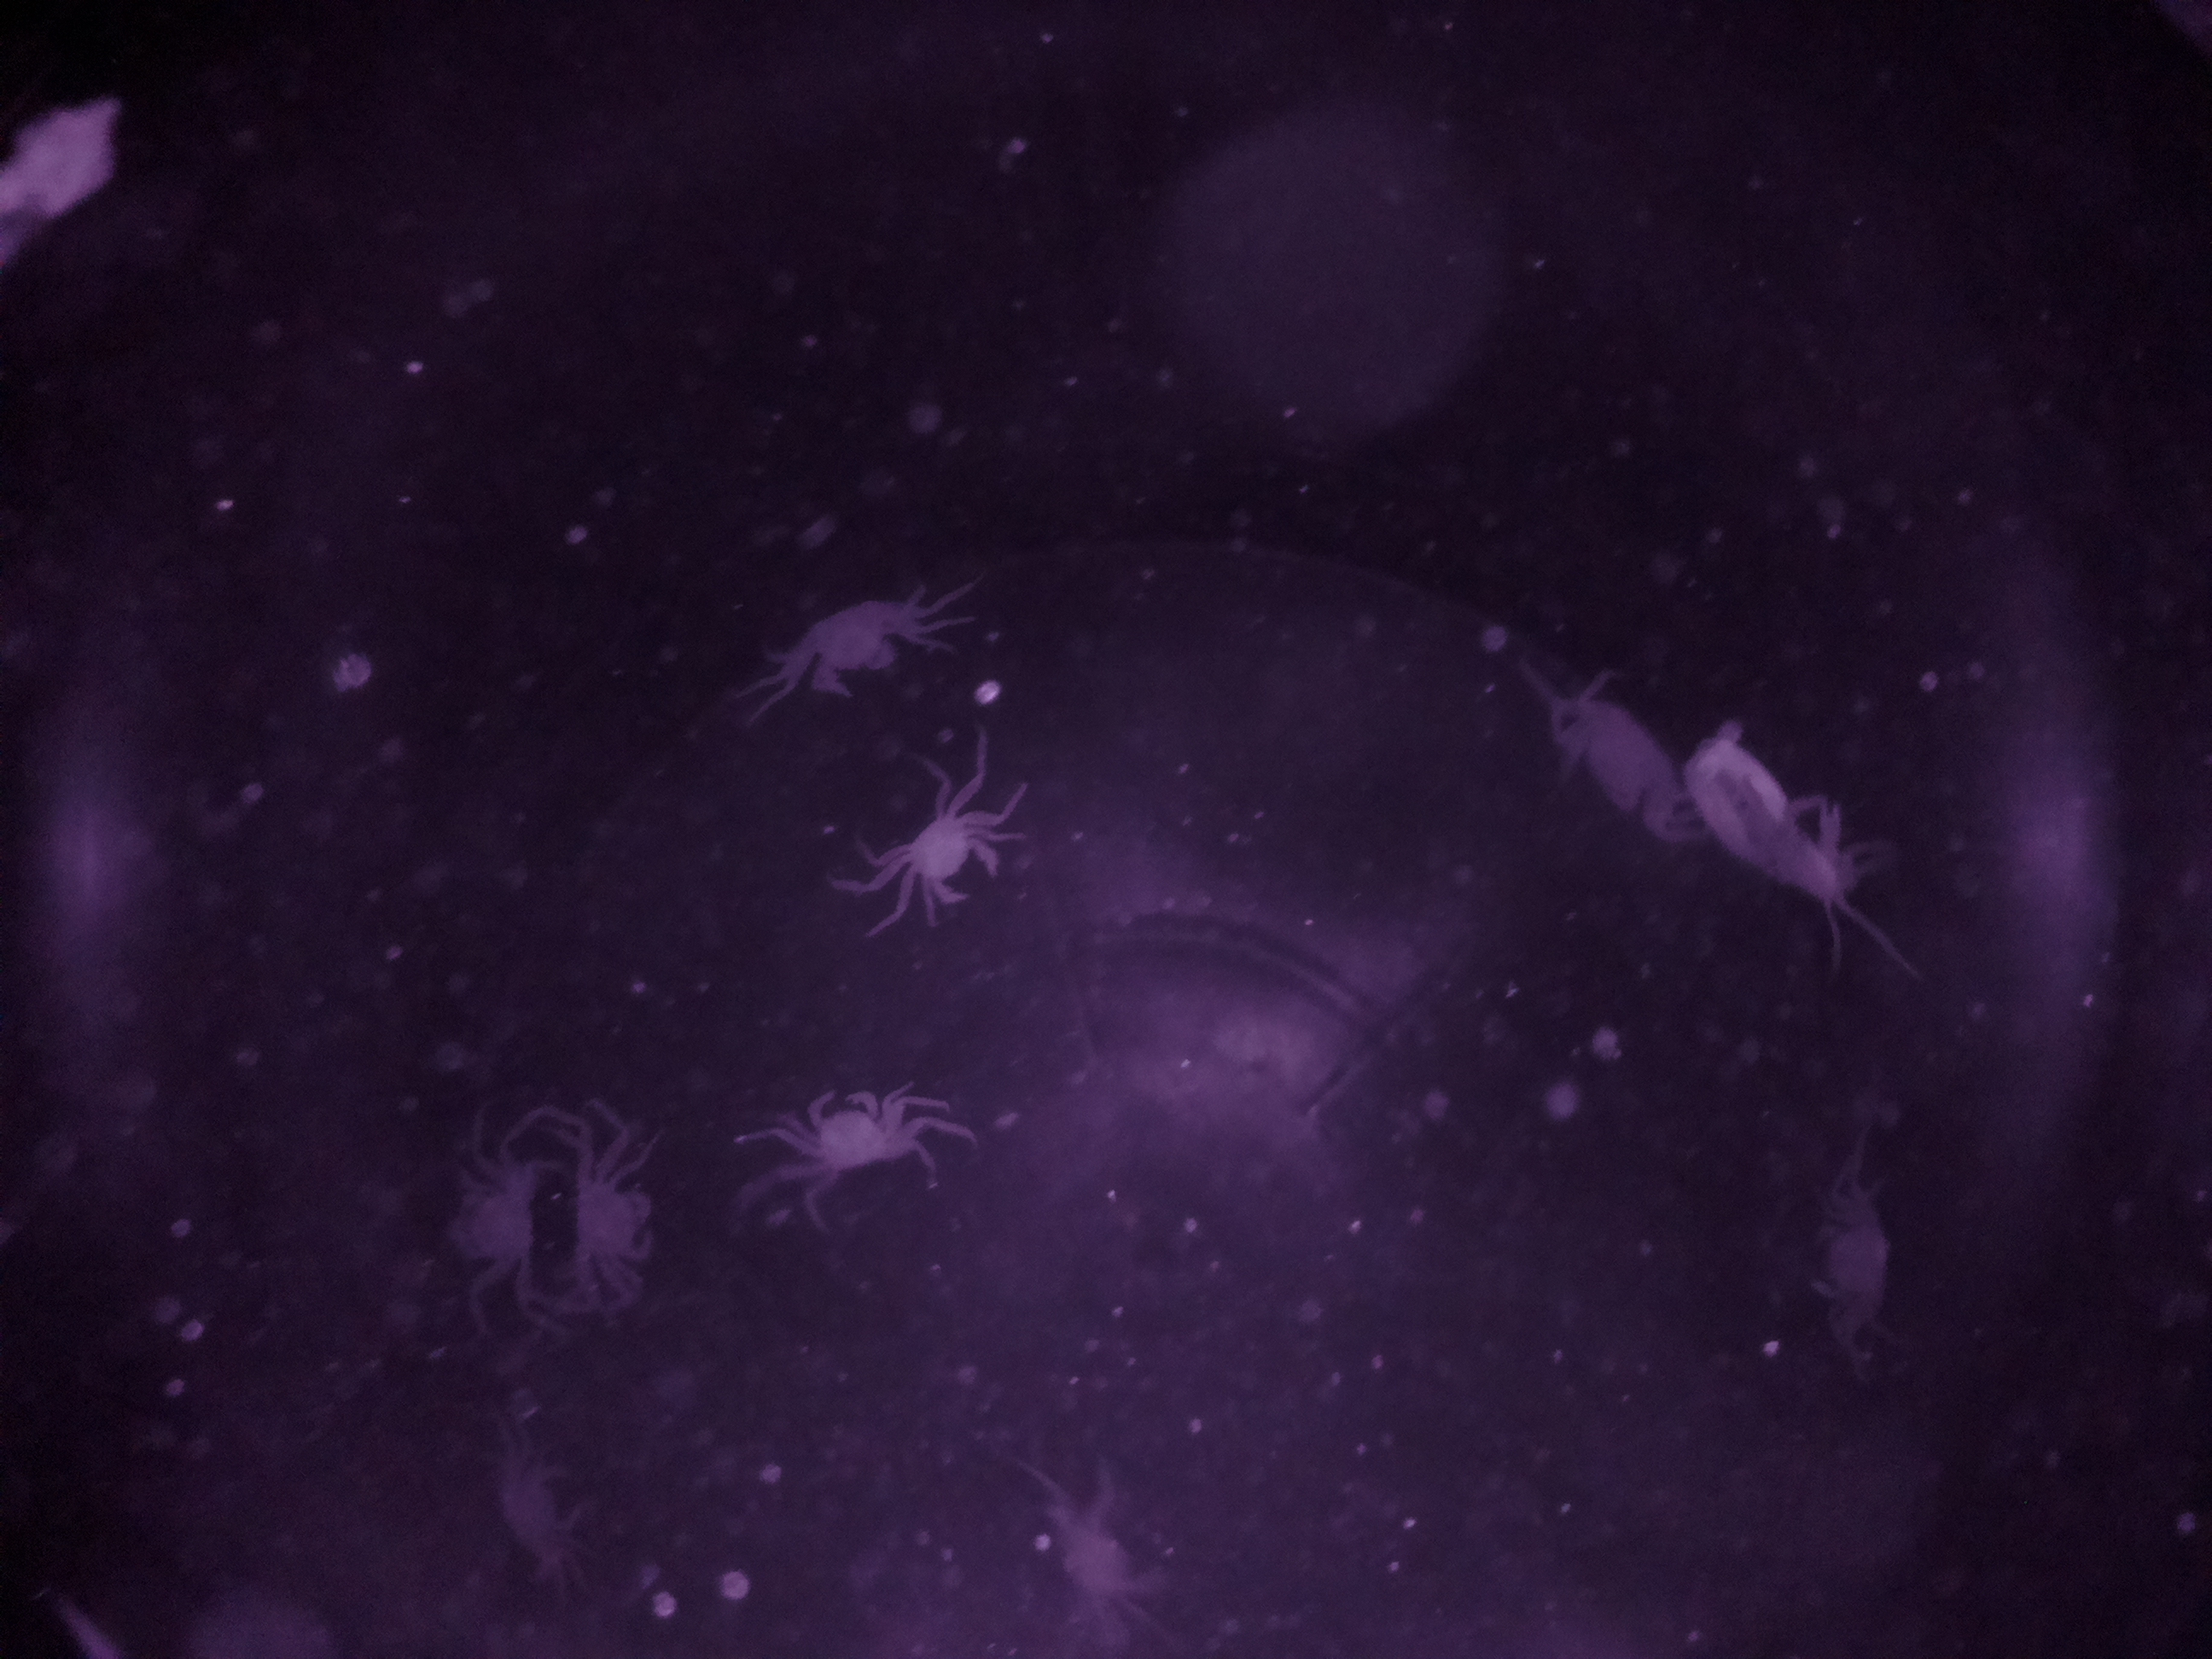Crab: (428, 1134, 549, 1297), (787, 1068, 923, 1197), (888, 791, 1017, 925), (782, 584, 916, 711), (566, 1138, 669, 1298)
